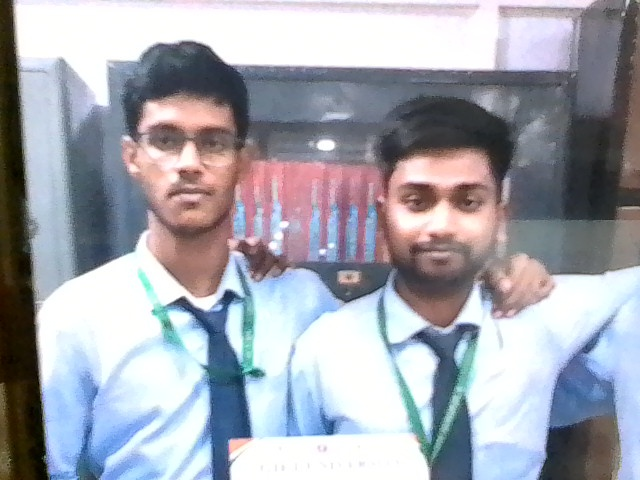real: (380, 109, 514, 299), (125, 59, 248, 234)
